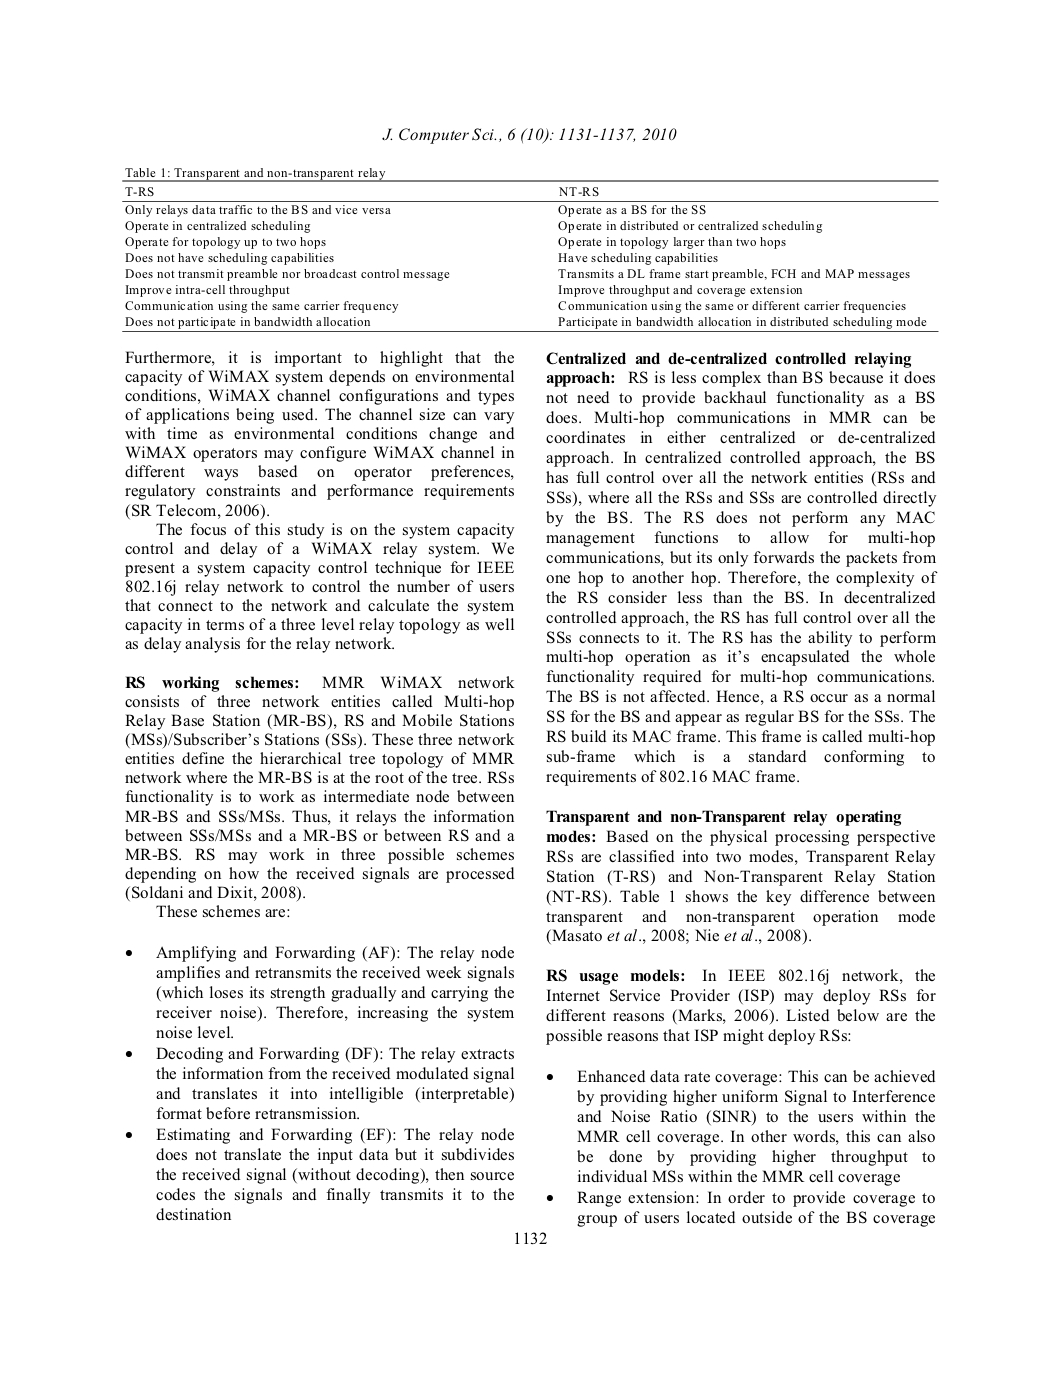Table: (121, 181, 938, 331)
